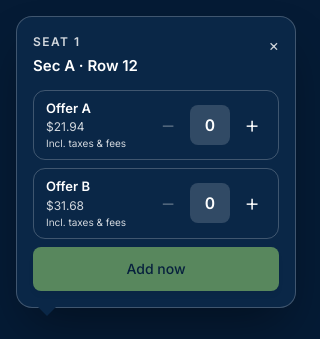
Test: SeatmapTooltip GA stepper › disables Add now while every seated offer quantity is 0
Check: the button "Add now" is disabled, box [33,246,279,290]
Click the button named "increase quantity" at x=252, y=203, box [238,183,266,223]
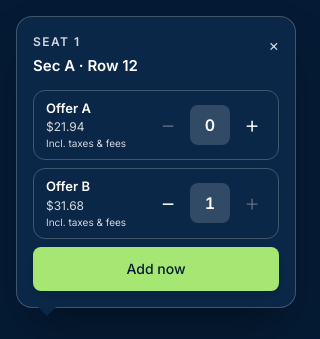
Check: the button "Add now" is enabled, box [33,246,279,290]
Click the button named "decrease quantity" at x=168, y=203, box [154,183,182,223]
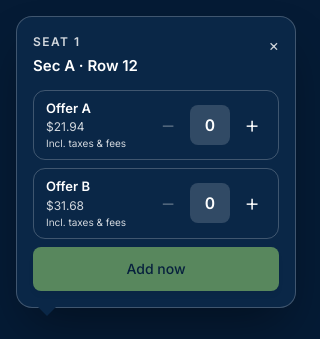
Check: the button "Add now" is disabled, box [33,246,279,290]
